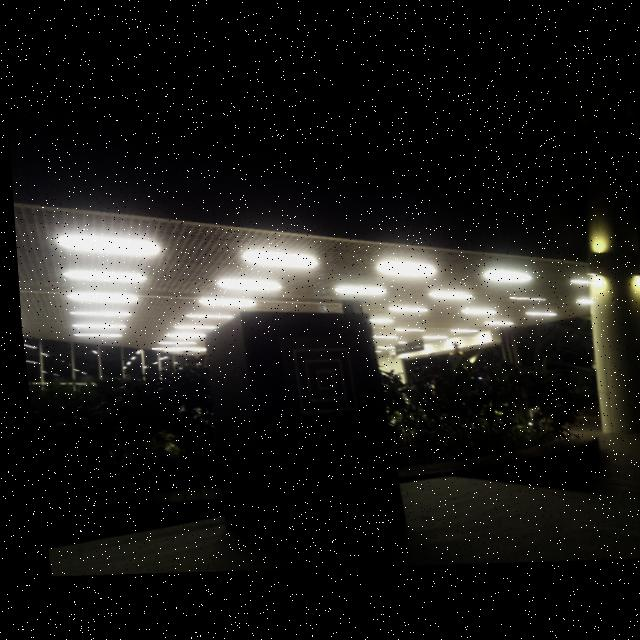BULLSEYE: (288, 347, 351, 413)
